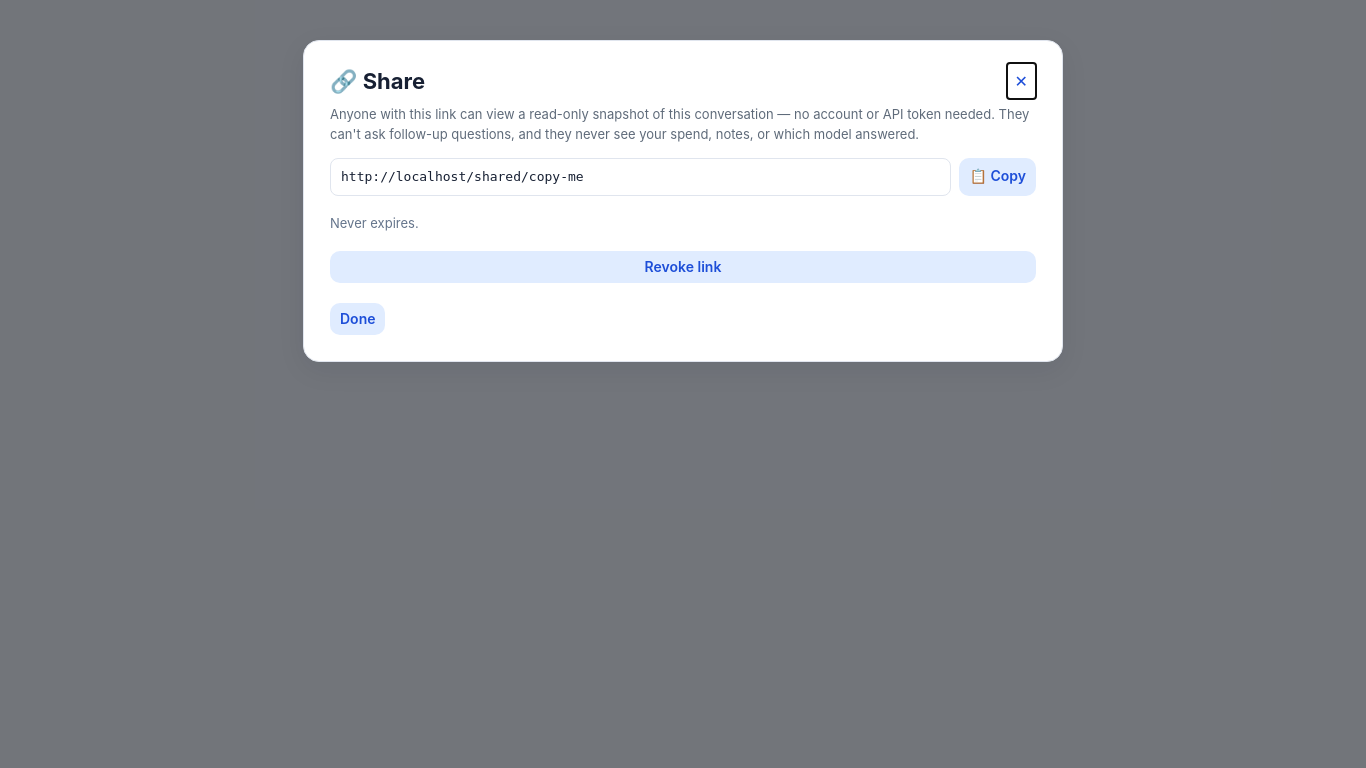
Scenario: Share › copies the share link to the clipboard
The image size is (1366, 768).
Expected: the field named "Share link" is shown, [330, 158, 951, 196]
Click the button "📋 Copy" at {"x": 998, "y": 177}, box [959, 158, 1036, 196]
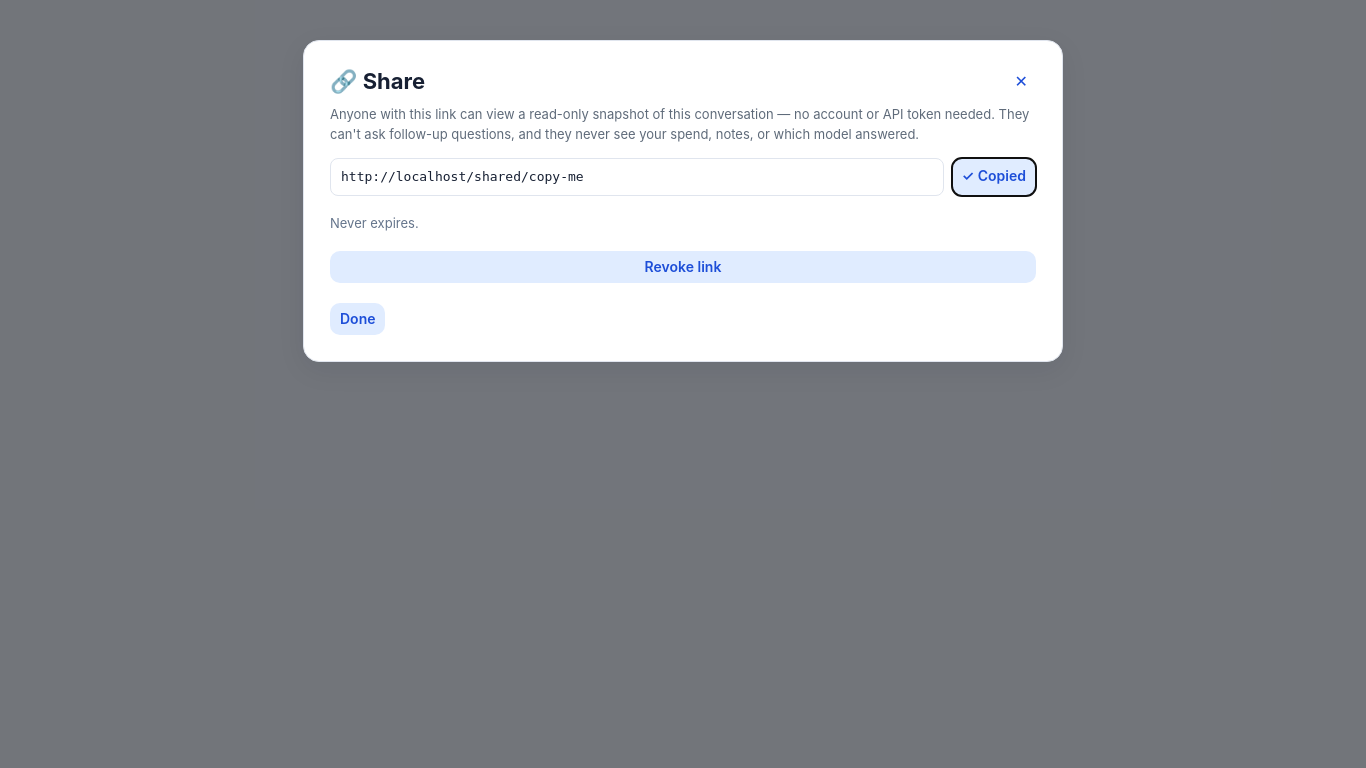
Expected: the button "✓ Copied" is shown, [952, 158, 1036, 196]
